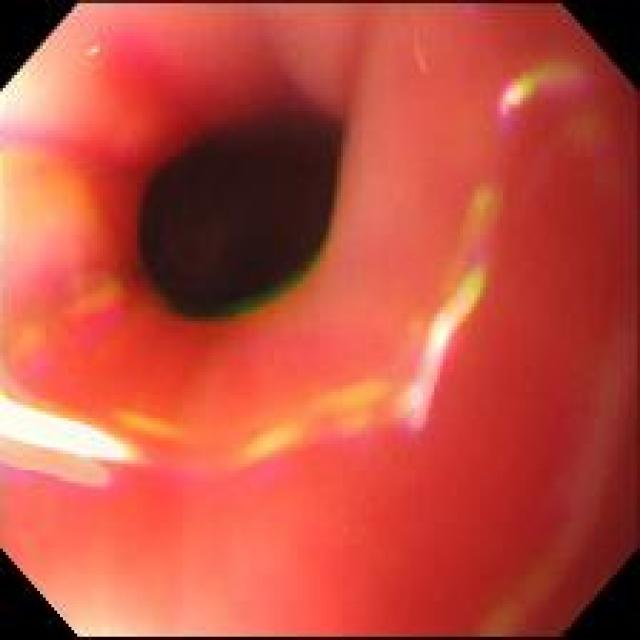blur: (3, 5, 630, 630)
color misalignment: (0, 385, 130, 496), (406, 261, 484, 430), (133, 411, 214, 504), (14, 241, 114, 294), (320, 381, 390, 454), (5, 115, 98, 167), (64, 283, 133, 349), (236, 424, 298, 486), (455, 187, 503, 255), (518, 59, 593, 101), (206, 293, 286, 323), (492, 76, 534, 125), (282, 248, 327, 289)
contrast: (129, 107, 345, 316)
saturation: (42, 563, 166, 634), (5, 27, 73, 112)
specularity: (1, 394, 122, 462), (420, 297, 470, 342)
